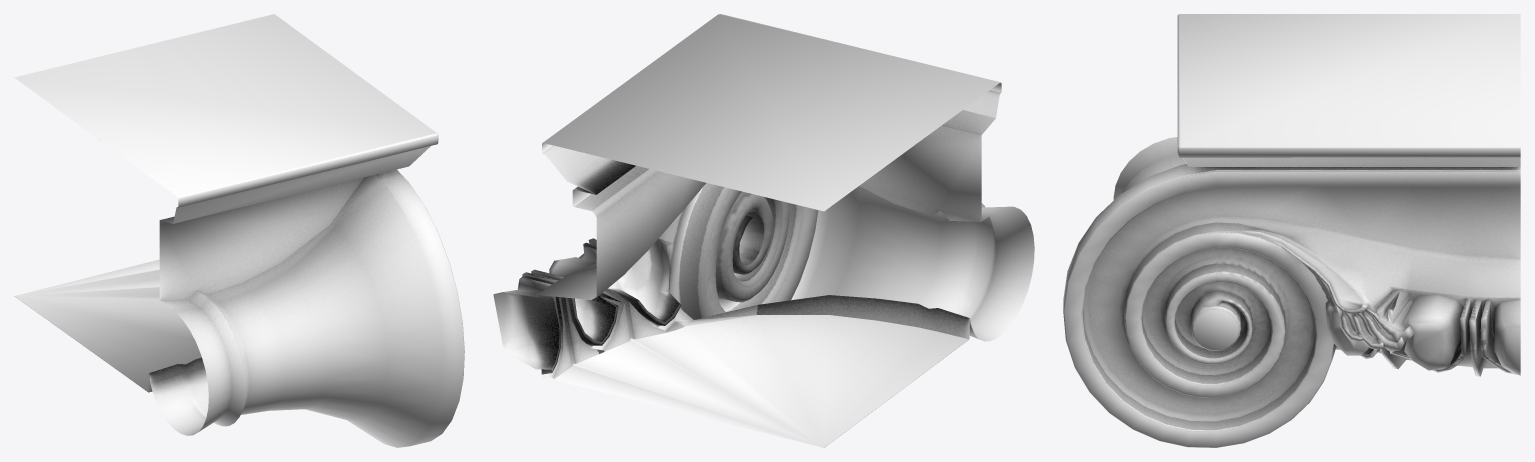
The model's file is capitol.glb.
3 views of the same model, side by side, from view 1: azimuth 30°, elevation 25°; view 2: azimuth 150°, elevation 25°; view 3: azimuth 270°, elevation 25° (orthographic). The views are drawn at different scales.
Visible parts, largest first — view 1: polySurface12; view 2: polySurface12; view 3: polySurface12.
Boxes of the visible parts, x1=… form: polySurface12: x1=14, y1=14, x2=464, y2=447; polySurface12: x1=493, y1=14, x2=1034, y2=447; polySurface12: x1=1063, y1=14, x2=1520, y2=447.
Bounding box in the file's own units: 0.3073 × 0.29 × 0.3808.
Materials: 1 (1 with a texture image).
